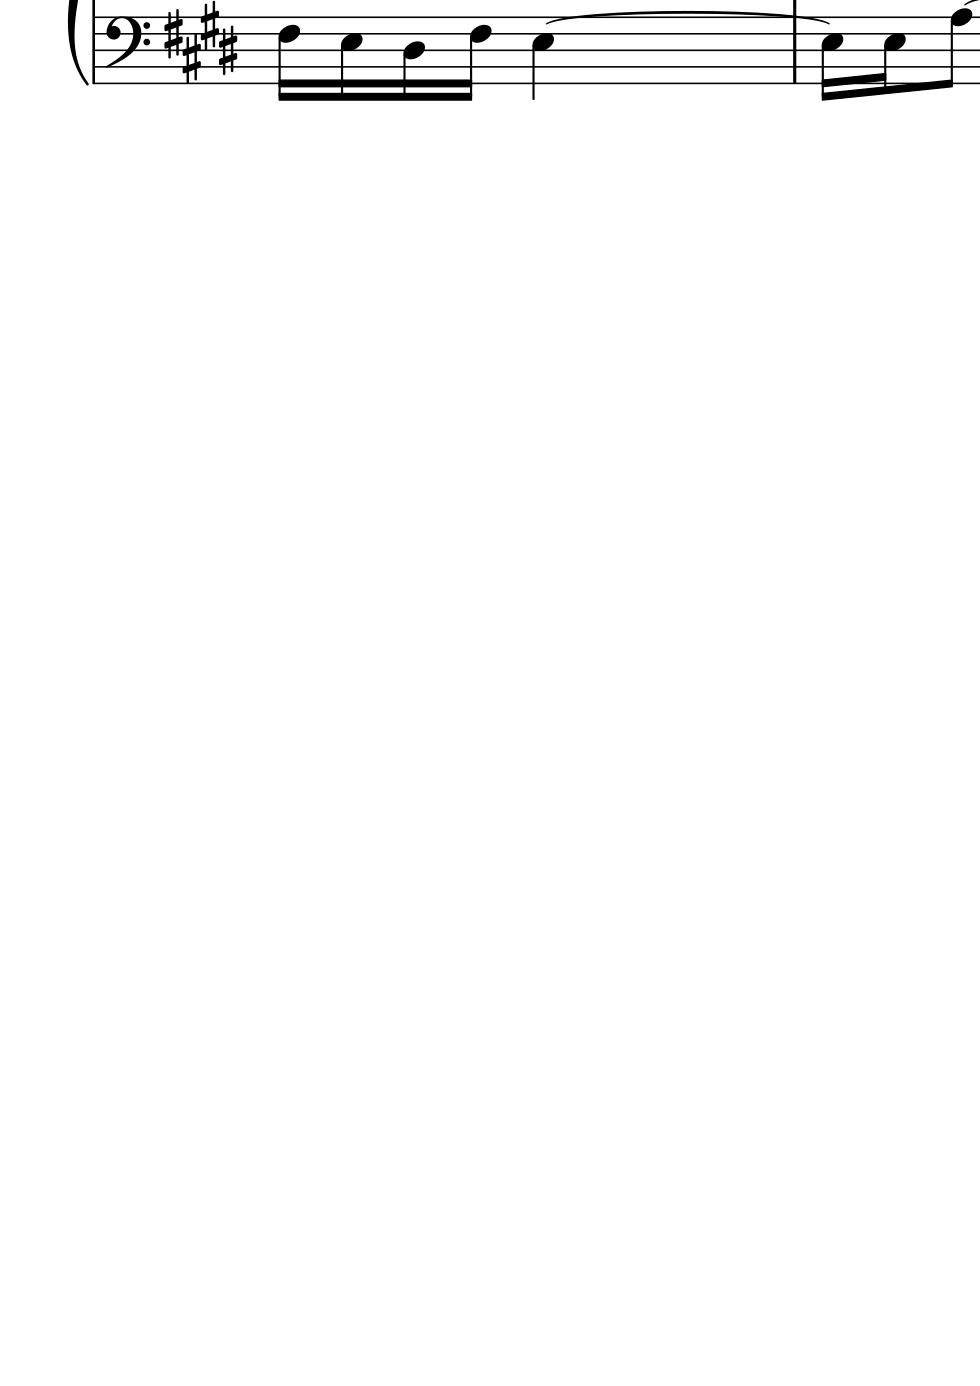16_4: (402, 15, 425, 102)
16_5: (878, 15, 907, 95), (821, 16, 844, 101), (342, 15, 364, 100)
16_6: (462, 16, 493, 102), (278, 16, 302, 102)
4_5: (532, 15, 555, 101)
8_8: (942, 8, 973, 86)
E_S: (158, 1, 237, 83)
Fclef: (107, 15, 152, 85)
Single_barline: (786, 18, 804, 84), (88, 17, 102, 84)
